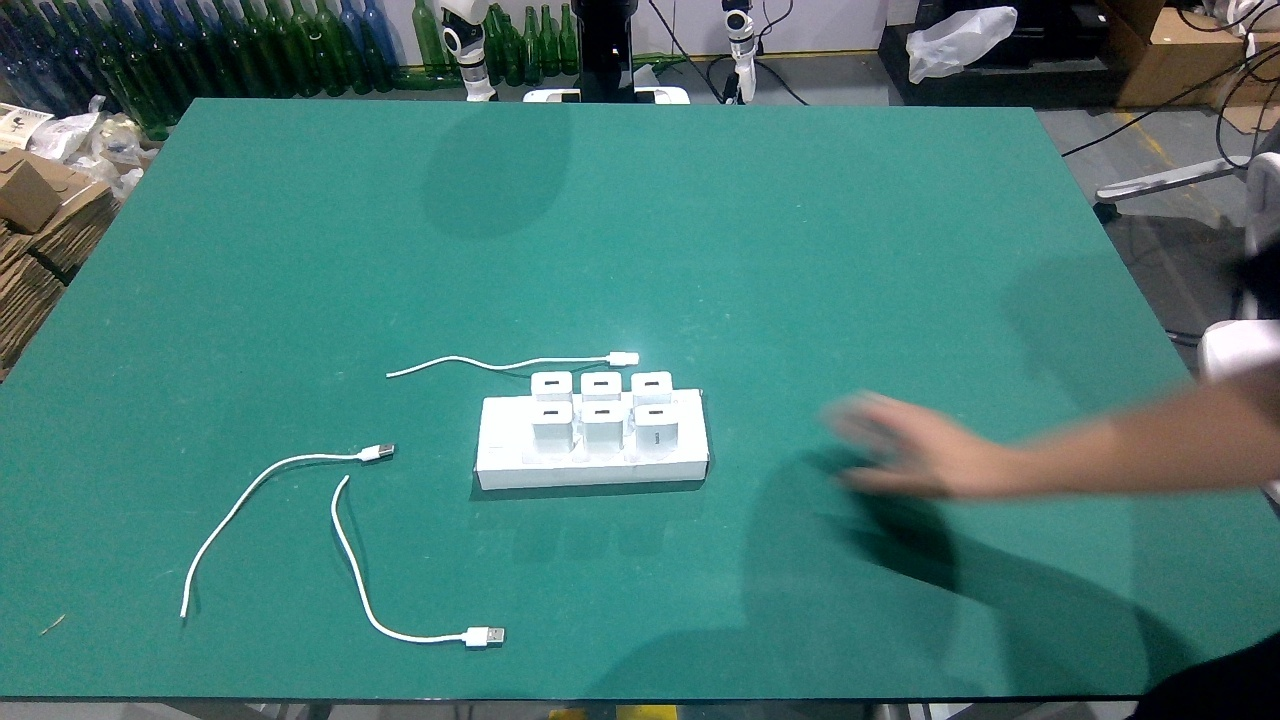usb_a_plug: (448, 626, 506, 647), (349, 442, 396, 465), (595, 351, 639, 366)
